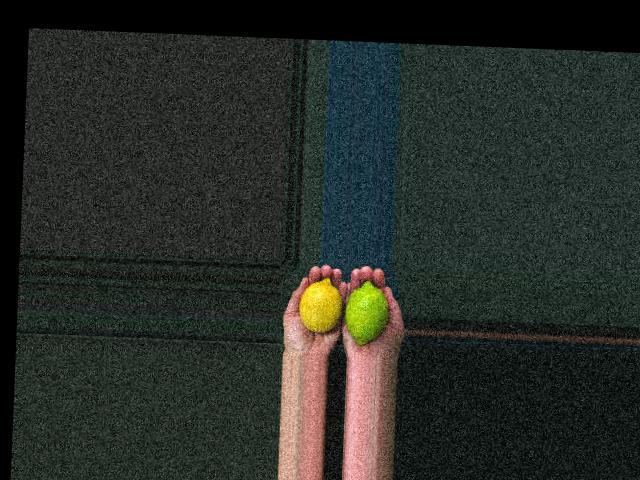lemon: (298, 277, 343, 335)
